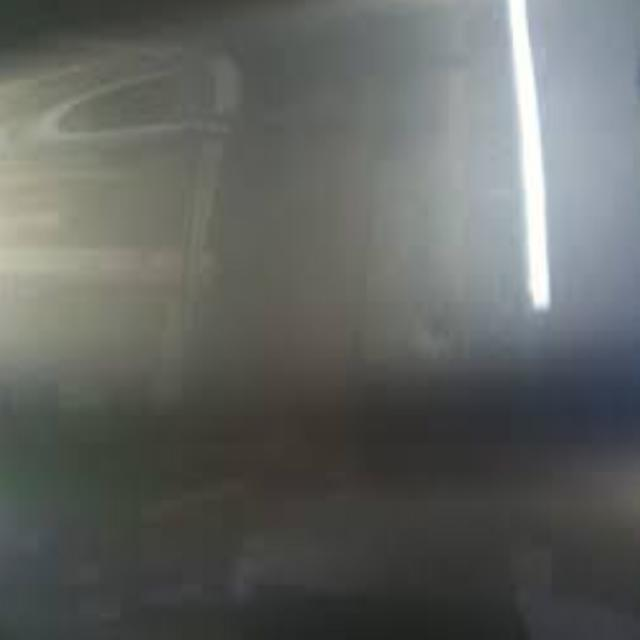dents: (390, 296, 478, 394)
